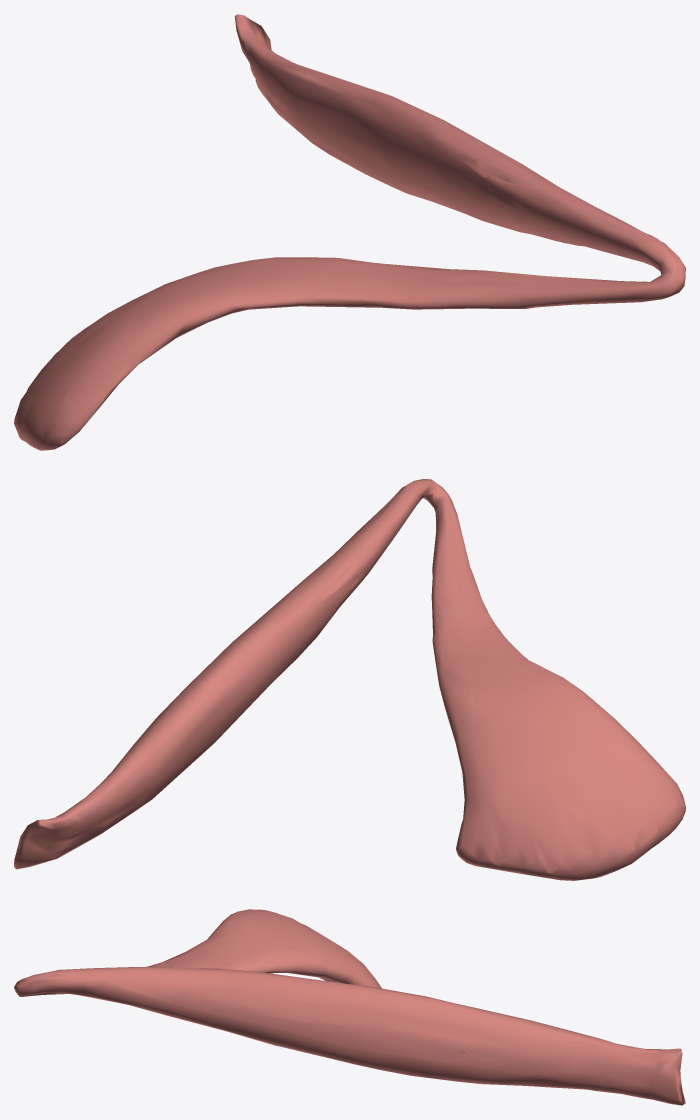
3 renders of one model, top to bottom at view 1: azimuth 30°, elevation 25°; view 2: azimuth 150°, elevation 25°; view 3: azimuth 270°, elevation 25°, orthographic. The views are drawn at different scales.
Visible parts, largest first — view 1: ZA_a89e2836ed7179a5; view 2: ZA_a89e2836ed7179a5; view 3: ZA_a89e2836ed7179a5.
Part boxes in pixels (x1,y1,x2,y2): ZA_a89e2836ed7179a5: [14, 14, 685, 450]; ZA_a89e2836ed7179a5: [14, 479, 685, 880]; ZA_a89e2836ed7179a5: [14, 909, 685, 1105].
Size of the model in its own units: 0.0279 by 0.0119 by 0.0433.
